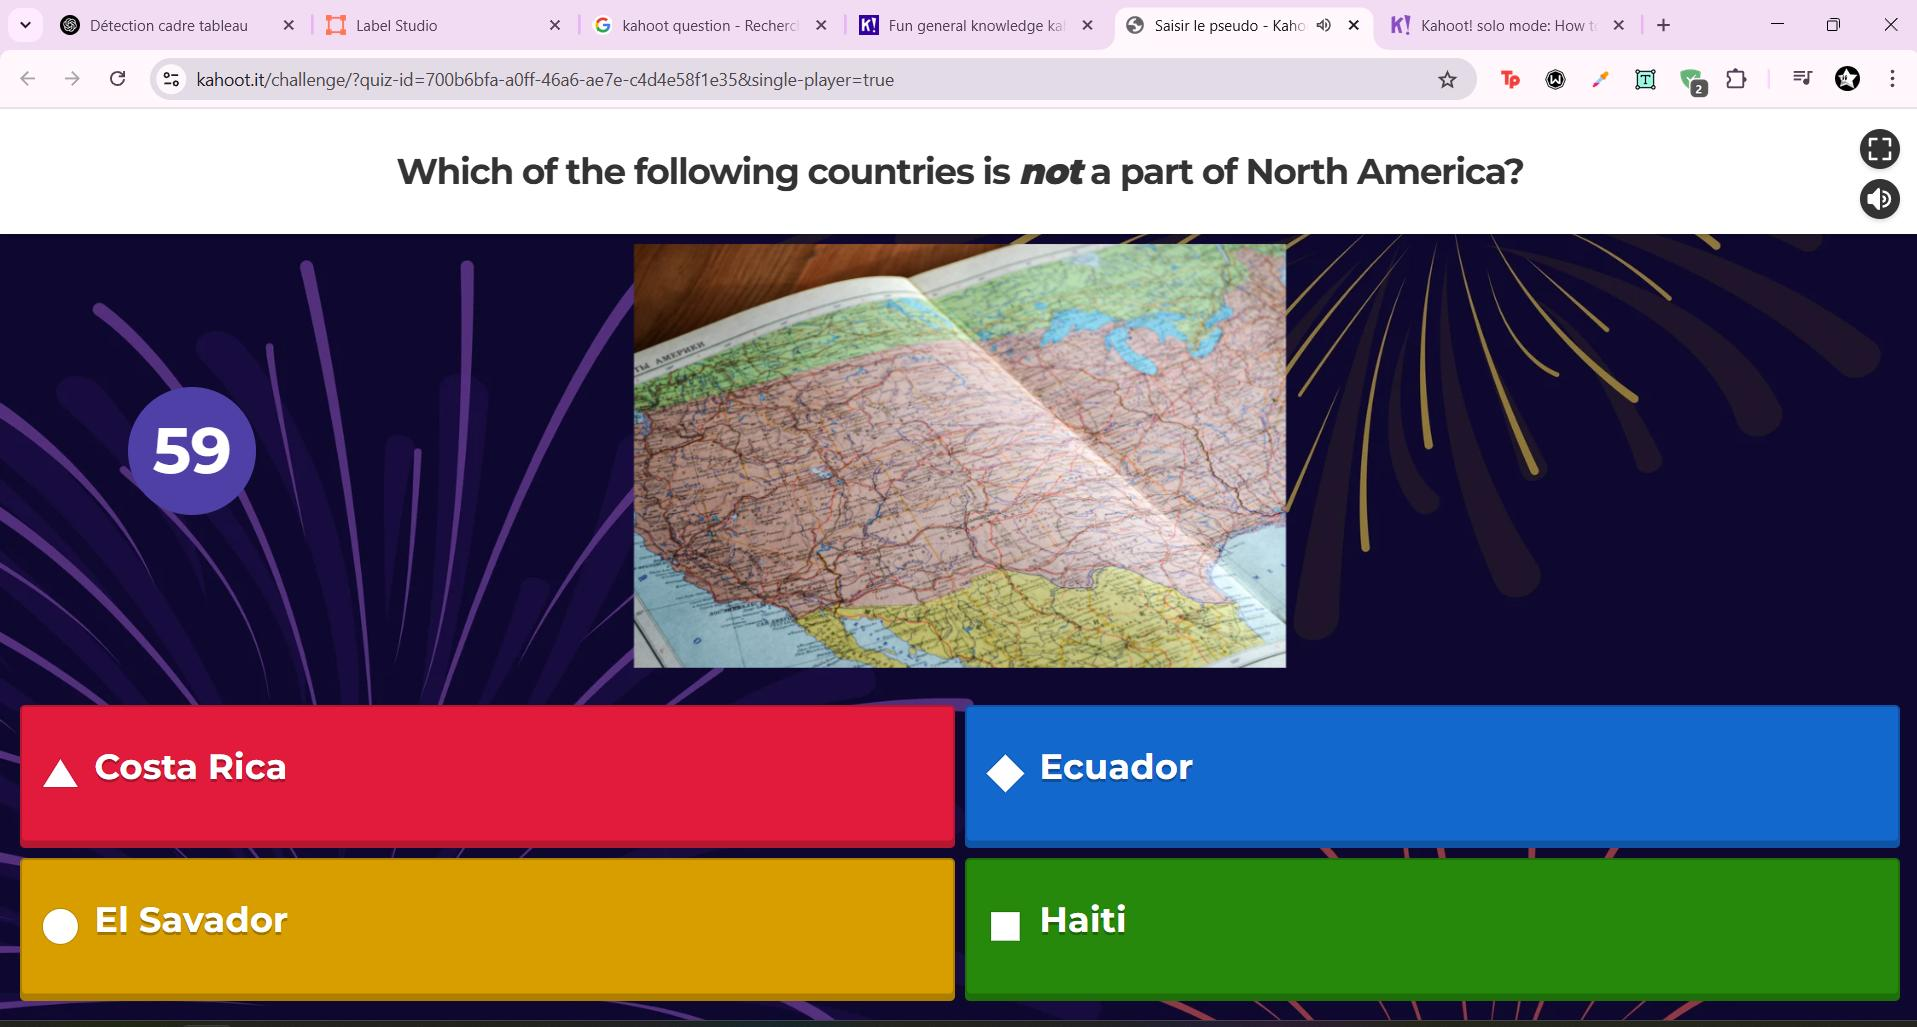answer_blue: (969, 709, 1895, 844)
answer_green: (966, 862, 1893, 1000)
answer_red: (20, 711, 953, 847)
answer_yellow: (20, 860, 952, 995)
question_box: (3, 109, 1838, 235)
